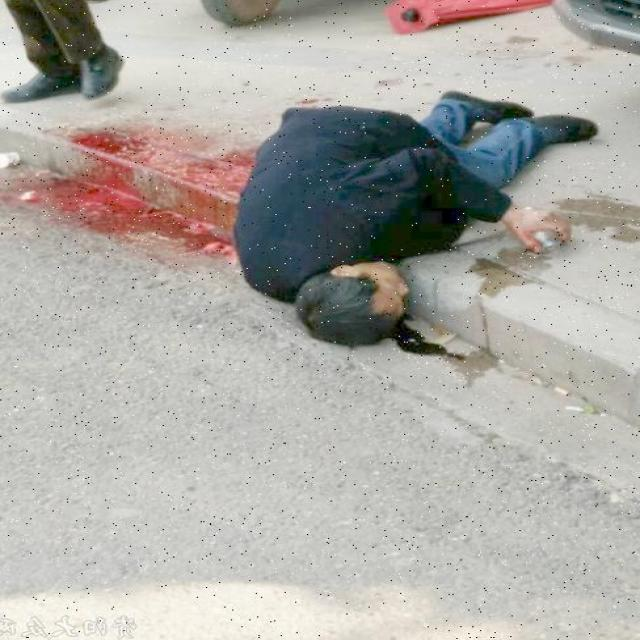fall: (250, 94, 570, 330)
